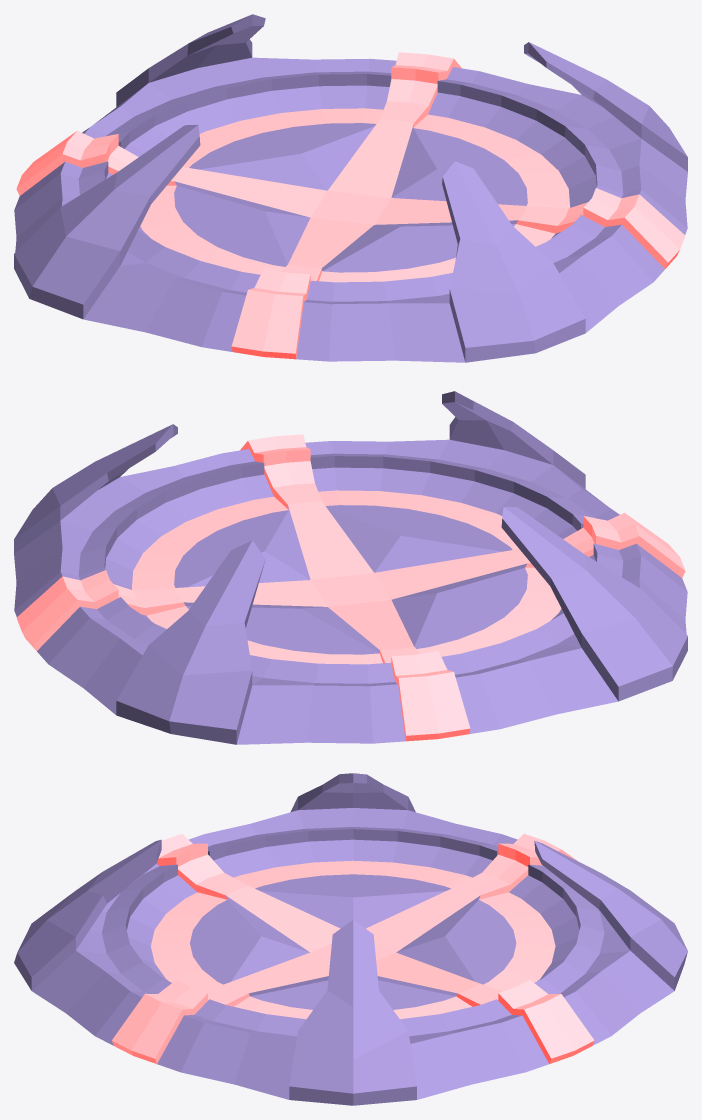
The model's file is trap.fbx.
The picture shows the model from 3 angles, top to bottom: view 1: azimuth 30°, elevation 25°; view 2: azimuth 150°, elevation 25°; view 3: azimuth 270°, elevation 25°; orthographic projection. The views are drawn at different scales.
Parts seen in each view (by area): view 1: Circle; view 2: Circle; view 3: Circle.
Boxes of the visible parts, left/top/right/bottom form: Circle: left=14, top=14, right=687, bottom=362; Circle: left=14, top=391, right=687, bottom=744; Circle: left=14, top=773, right=687, bottom=1105.
Bounding box in the file's own units: 0.9215 × 0.186 × 0.9119.
